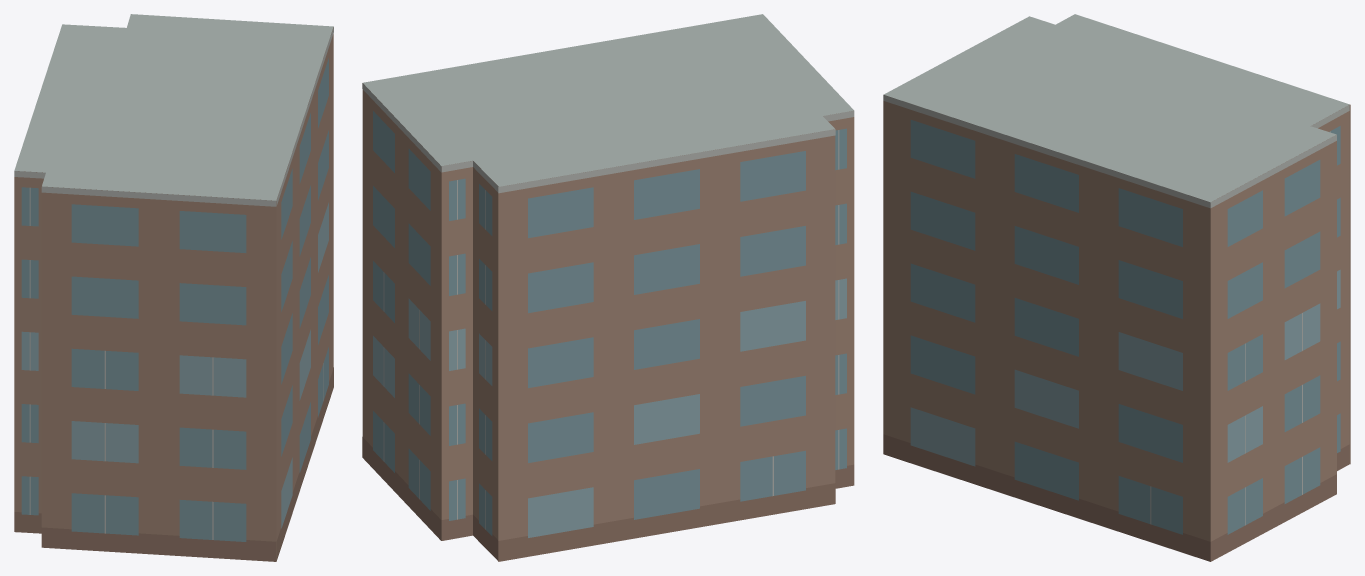
File: survey-upis-32885558.glb
3 renders of one model, left to right at view 1: azimuth 30°, elevation 25°; view 2: azimuth 150°, elevation 25°; view 3: azimuth 270°, elevation 25°, orthographic. The views are drawn at different scales.
Parts seen in each view (by area): view 1: survey-upis-32885558.tmp; view 2: survey-upis-32885558.tmp; view 3: survey-upis-32885558.tmp.
Part boxes in pixels (x1=…): survey-upis-32885558.tmp: x1=14, y1=14, x2=333, y2=561; survey-upis-32885558.tmp: x1=362, y1=14, x2=854, y2=561; survey-upis-32885558.tmp: x1=883, y1=14, x2=1350, y2=561.
Bounding box in the file's own units: 16.18 × 14.4 × 16.96.
